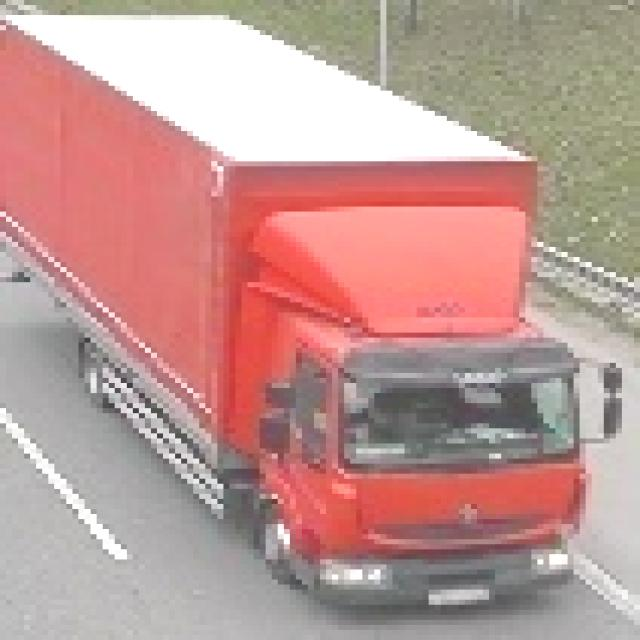truck: (1, 11, 617, 606)
